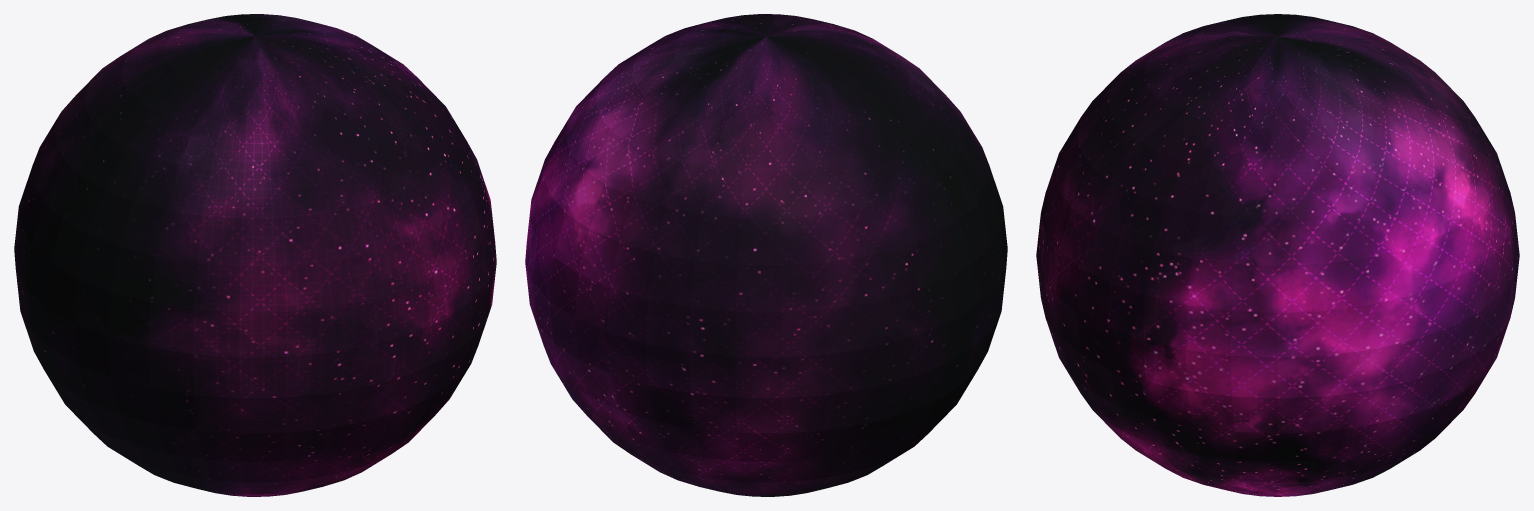
Rendered from mobile_tower_free_low_poly.glb.
3 views of the same model, side by side, from view 1: azimuth 30°, elevation 25°; view 2: azimuth 150°, elevation 25°; view 3: azimuth 270°, elevation 25° (orthographic).
Visible parts, largest first — view 1: Sphere_1; view 2: Sphere_1; view 3: Sphere_1.
Part boxes in pixels (x1=…): Sphere_1: x1=14, y1=14, x2=496, y2=496; Sphere_1: x1=525, y1=14, x2=1007, y2=496; Sphere_1: x1=1036, y1=14, x2=1519, y2=496.
Size of the model in its own units: 3303 by 3303 by 3303.
Materials: 2 (2 with a texture image).
